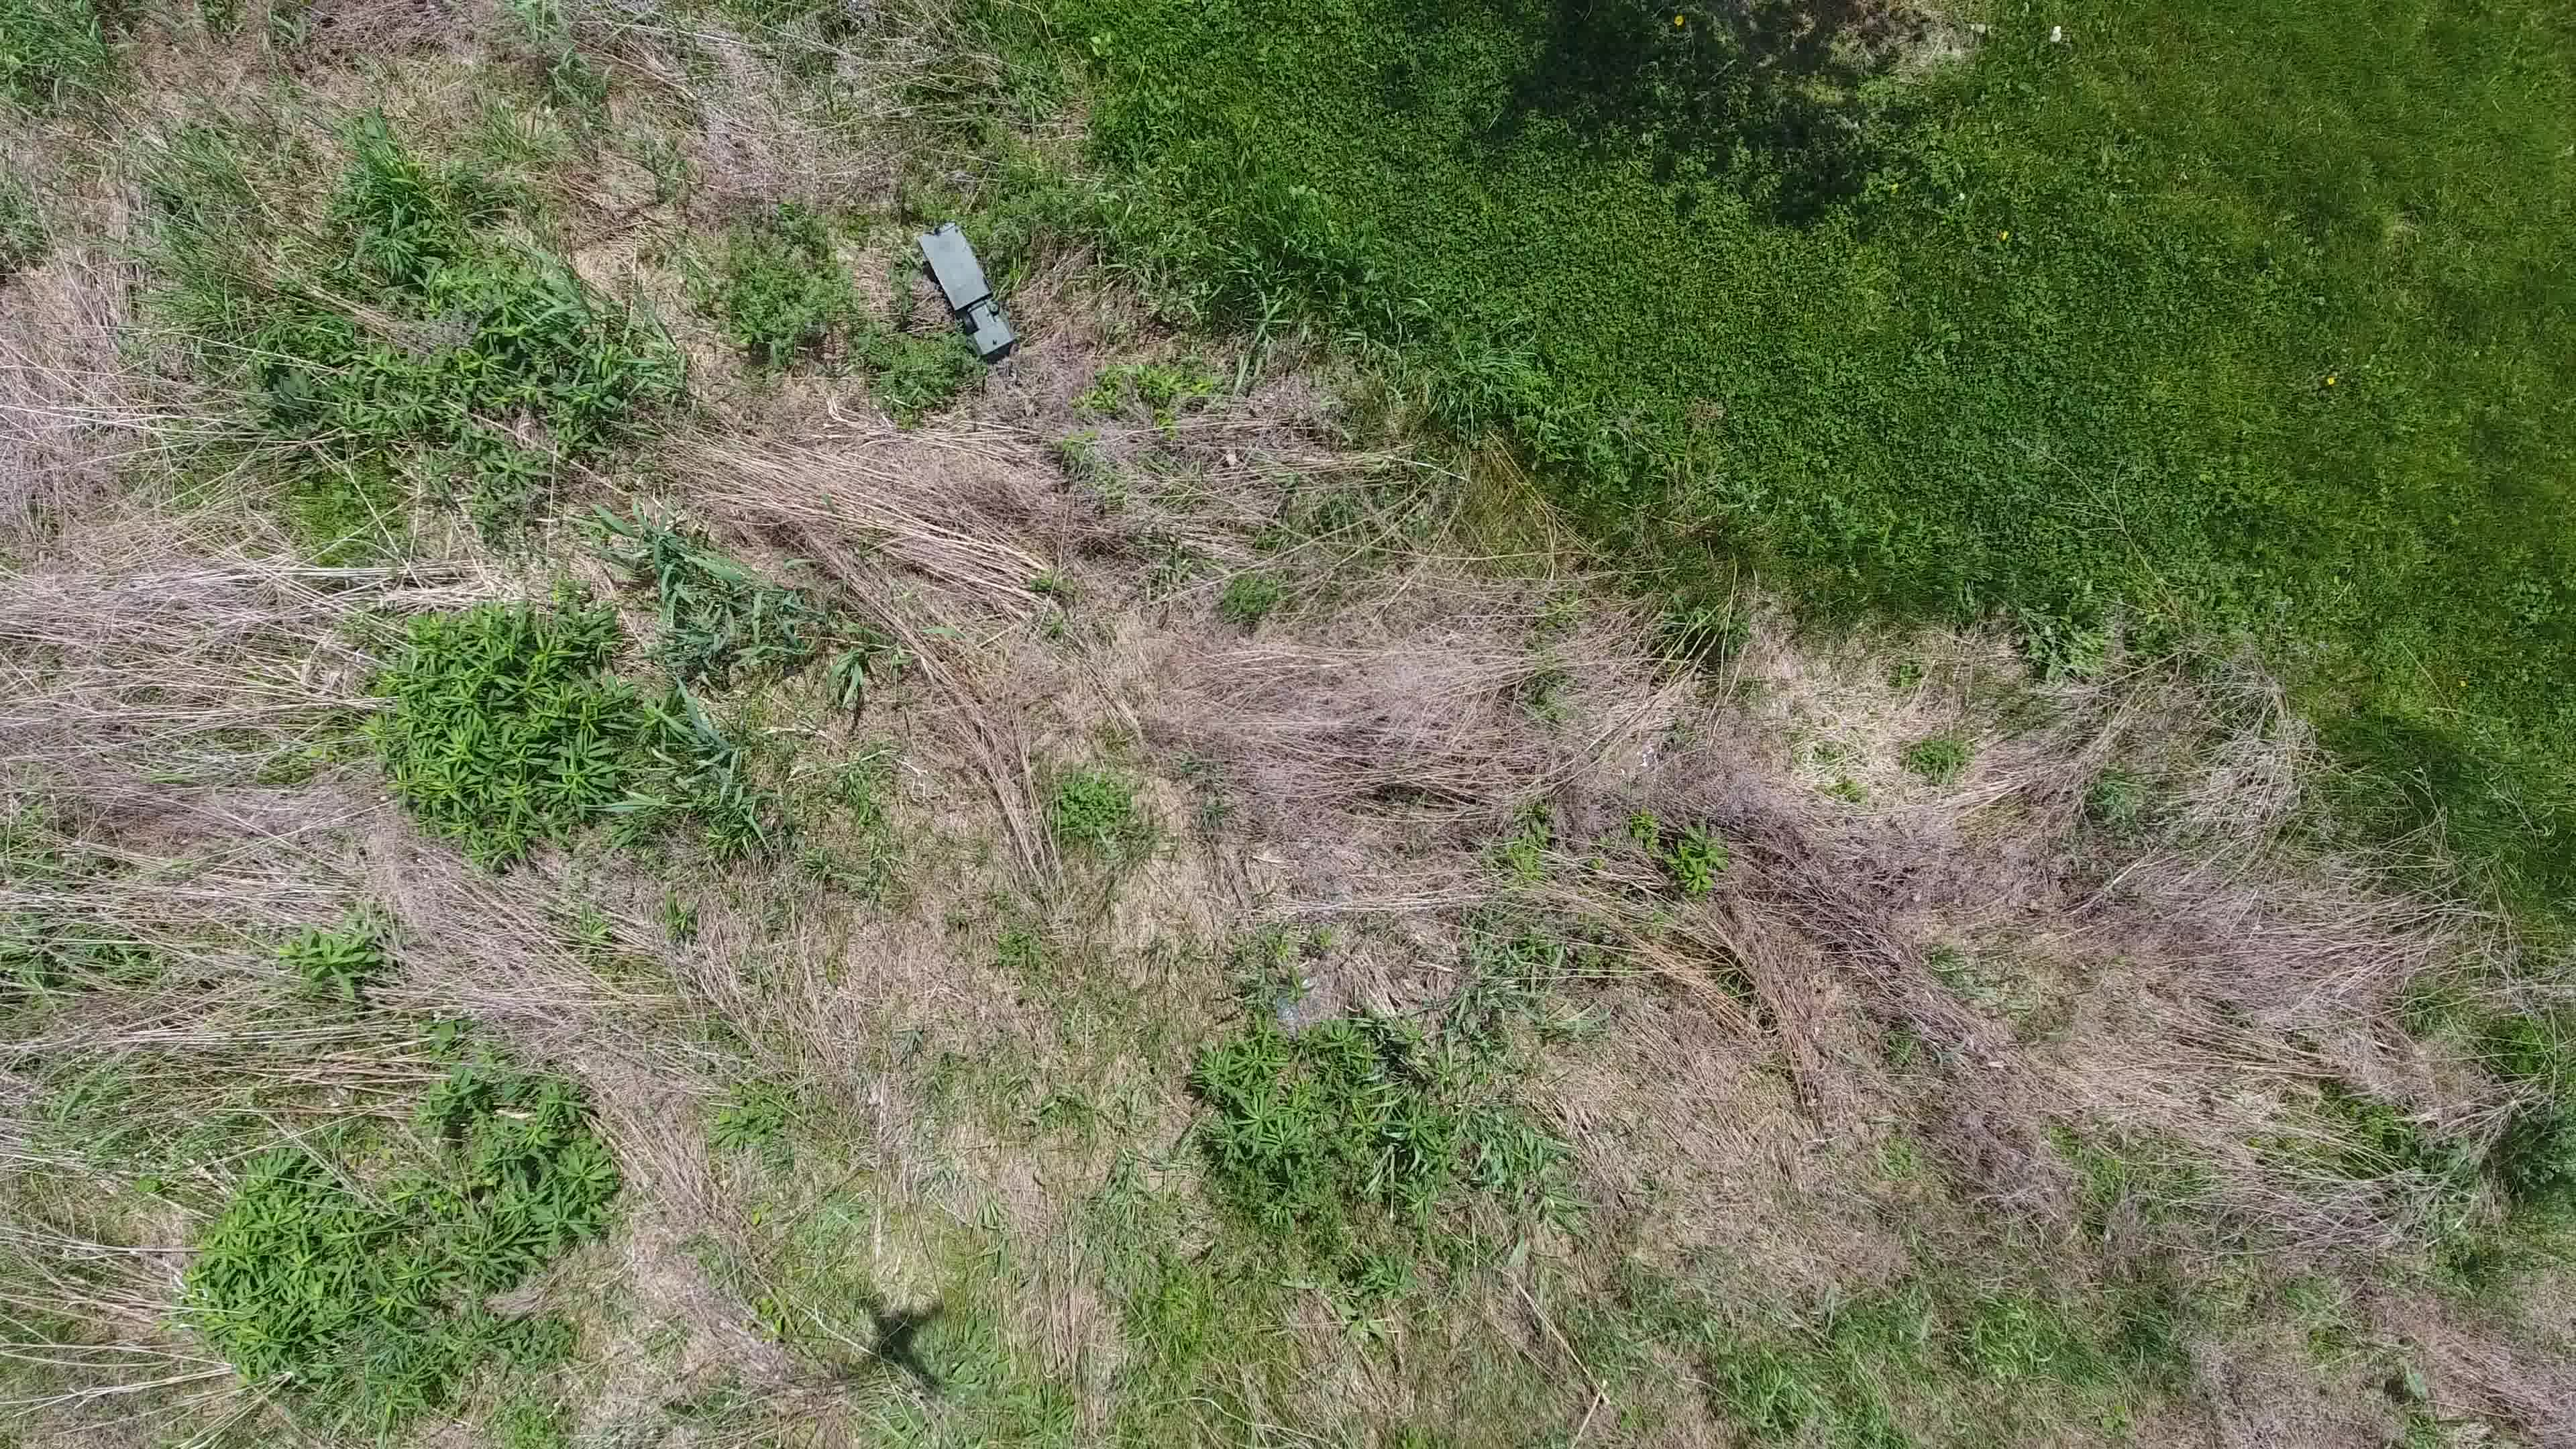transporter9: (916, 219, 1019, 366)
